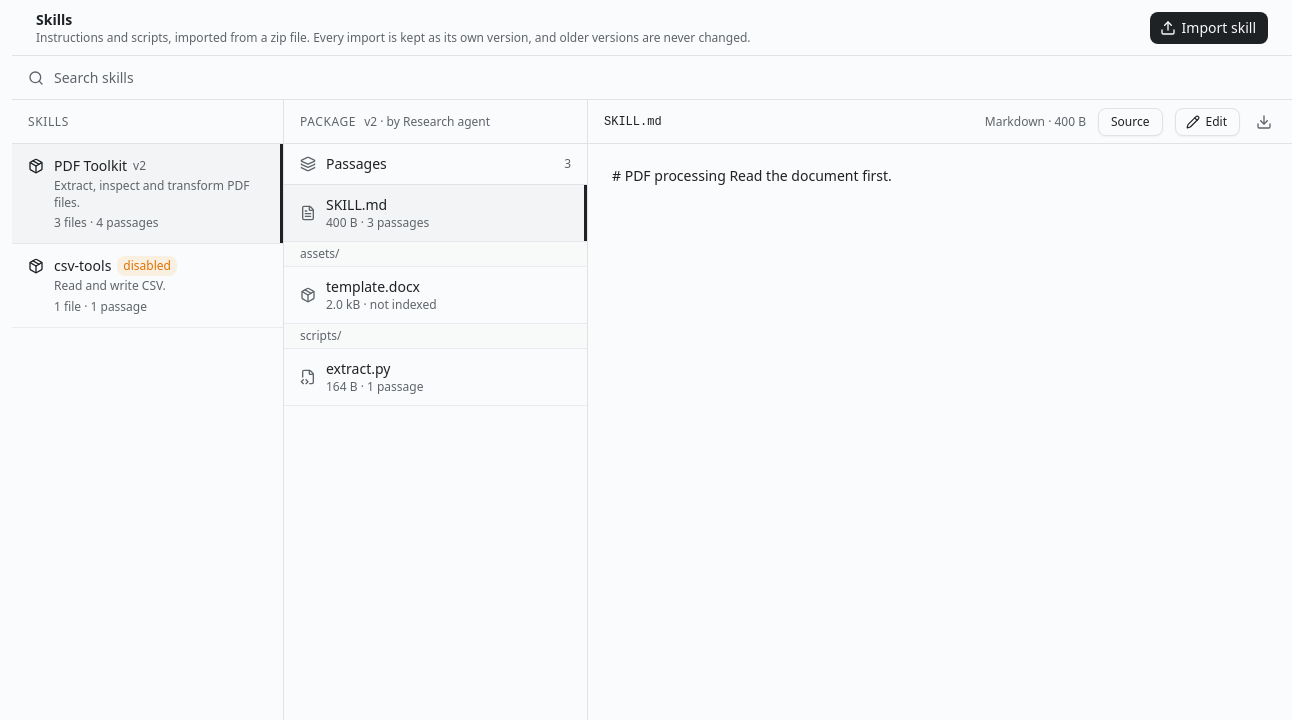
Test: the skills screen › goes back to the manifest when another skill is chosen
Check: the button "PDF Toolkit" is shown, box left=12, top=144, right=283, bottom=243
Click the button "Passages 3": [356, 164] box left=284, top=144, right=587, bottom=185
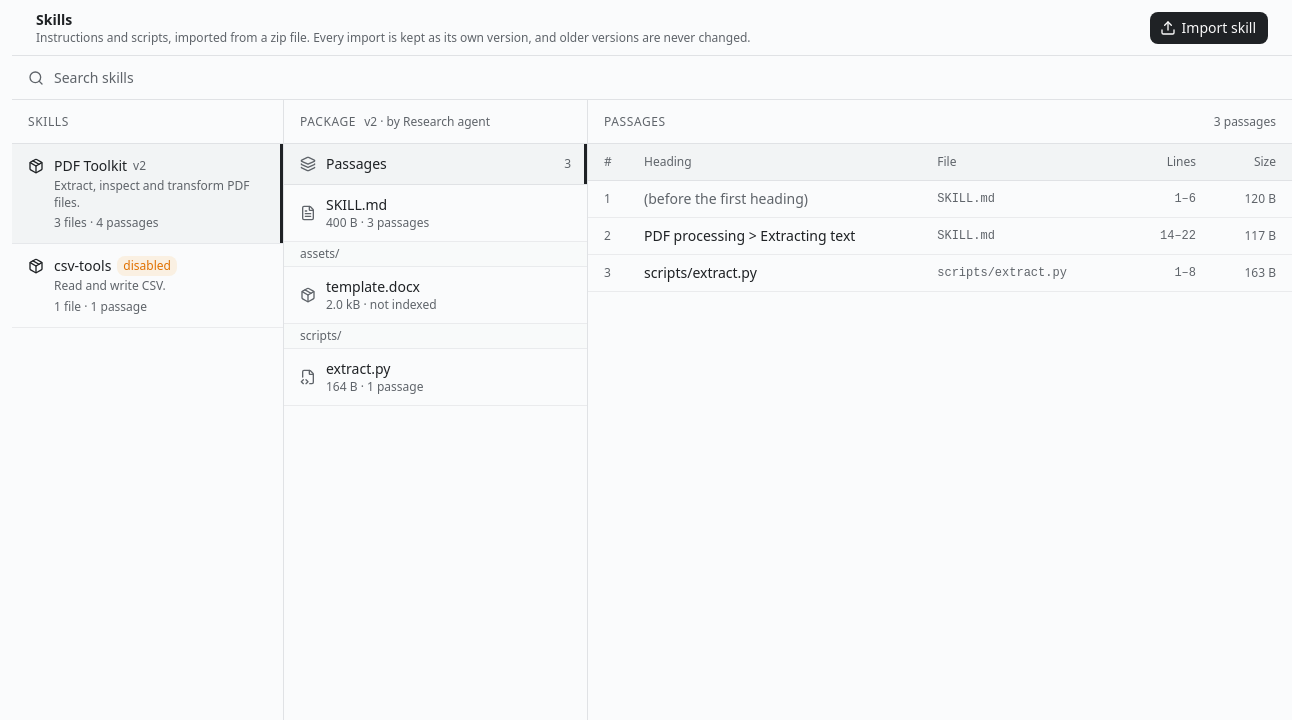
Check: the text "PDF processing > Extracting text" is shown, box left=628, top=218, right=921, bottom=254
Click the button "csv-tools disabled Read and write CSV. 1 file · 1 passage": [148, 285] box left=12, top=244, right=283, bottom=326
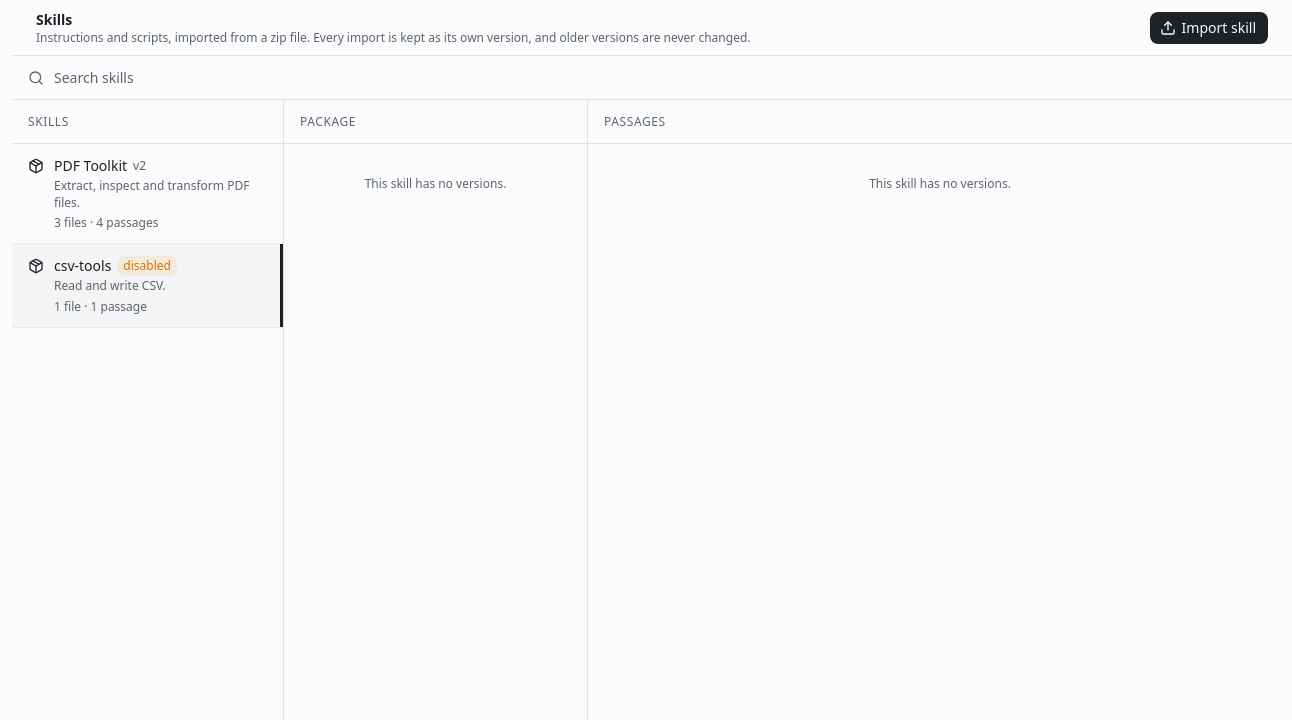
Check: the text "PDF processing > Extracting text" is gone
Check: the text "This skill has no versions." below "Package" is shown, box left=365, top=175, right=506, bottom=192
Click the button that starts with "PDF Toolkit": [148, 194] box left=12, top=144, right=283, bottom=243
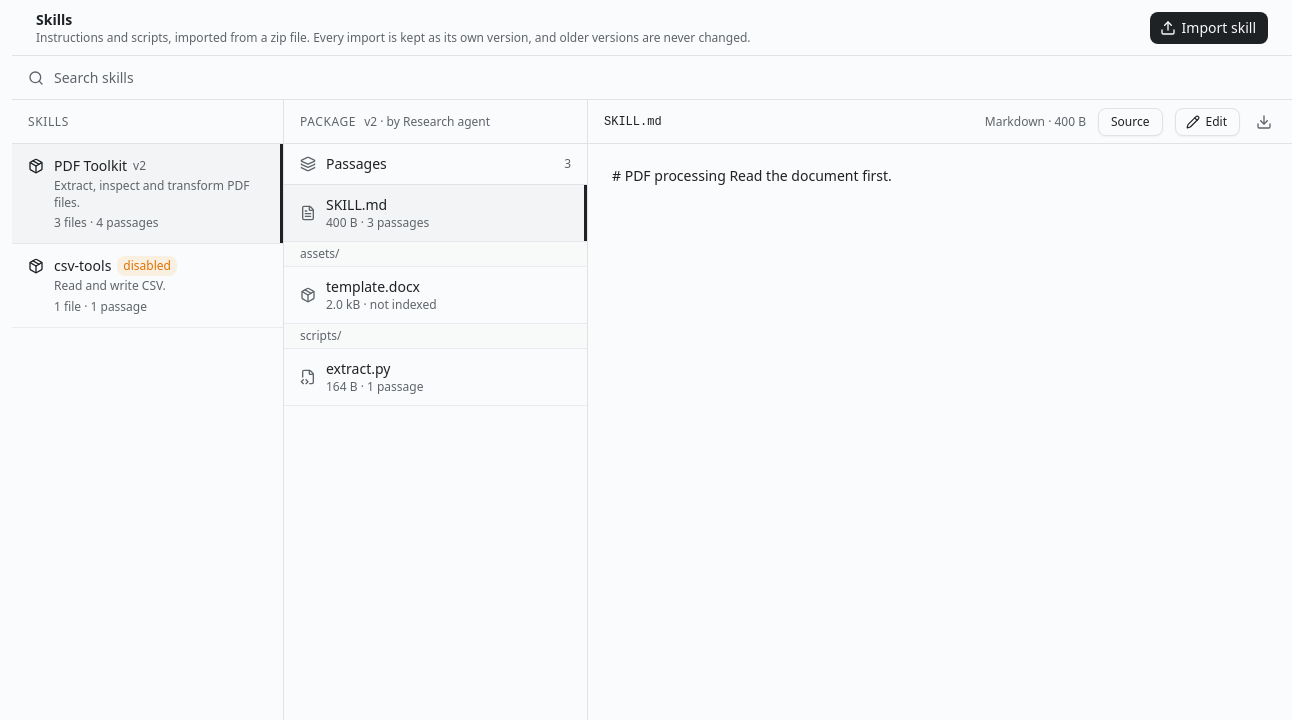
Check: the text "PDF processing > Extracting text" is not shown
Check: the text "# PDF processing Read the document first." is shown, box left=612, top=166, right=892, bottom=185
